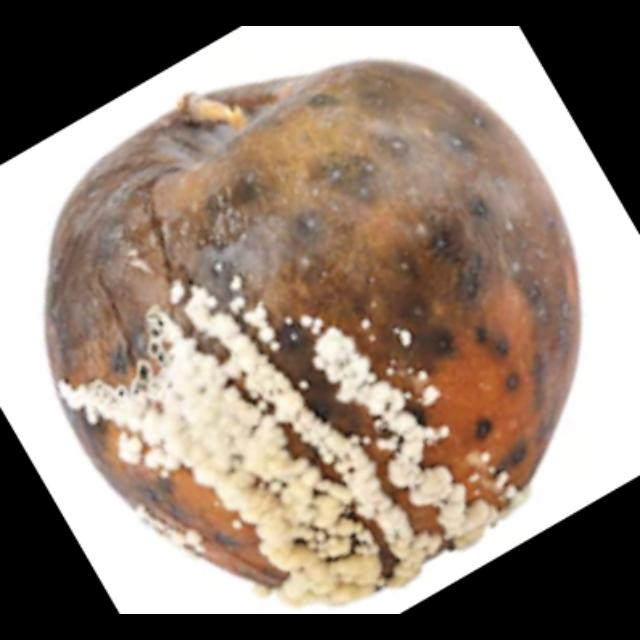Apel Tidak Segar: (38, 53, 590, 612)
